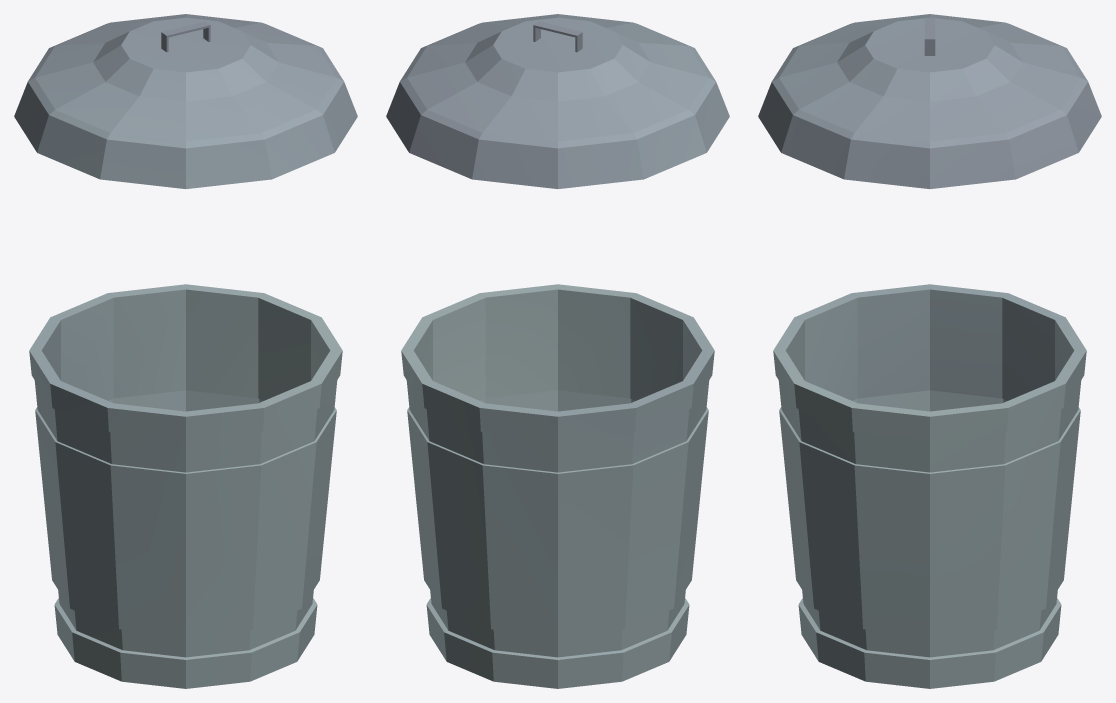
Rendered from TrashCan 2.fbx.
3 views of the same model, side by side, from view 1: azimuth 30°, elevation 25°; view 2: azimuth 150°, elevation 25°; view 3: azimuth 270°, elevation 25° (orthographic).
Parts seen in each view (by area): view 1: Can, Lid; view 2: Can, Lid; view 3: Can, Lid.
Boxes of the visible parts, box(x1,y1,x2,y2) form: Can: box(29, 284, 342, 688); Lid: box(14, 14, 357, 188); Can: box(401, 284, 714, 688); Lid: box(386, 14, 729, 188); Can: box(773, 284, 1086, 688); Lid: box(758, 14, 1101, 188).
Size of the model in its own units: 219 by 427 by 219.
